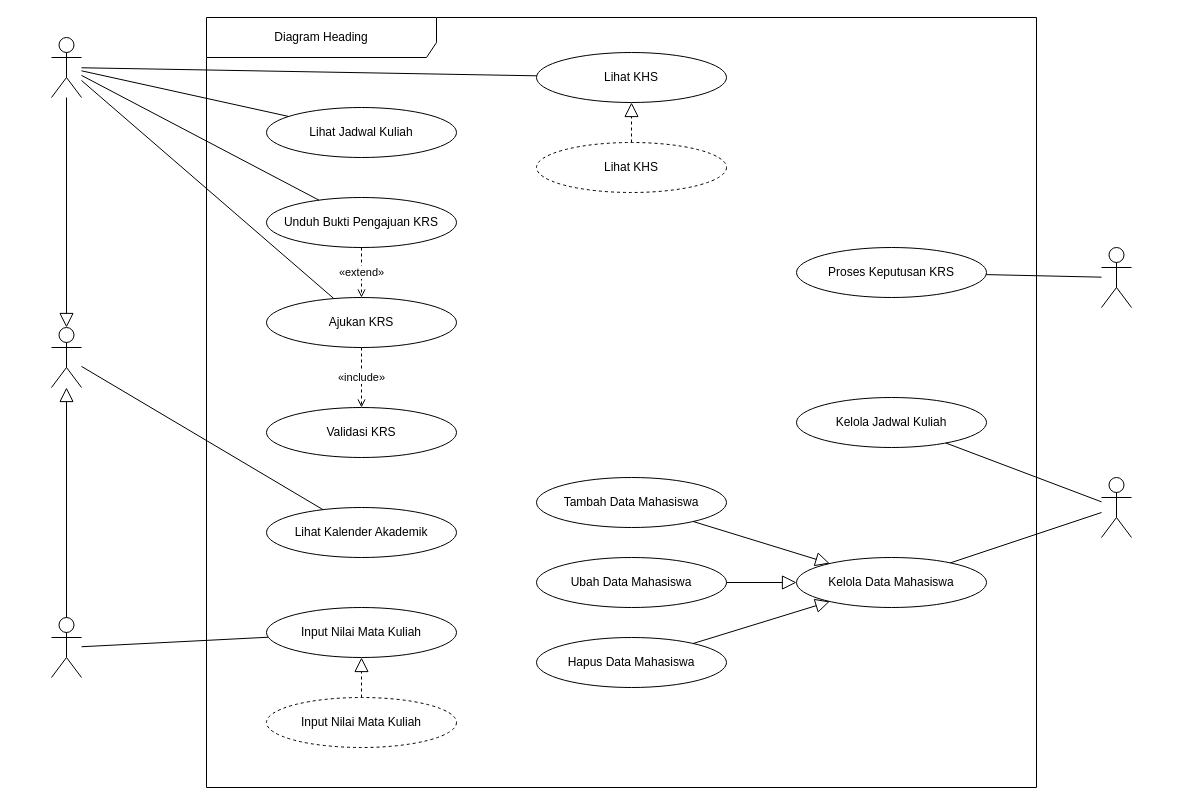
Image size: 1178x805. Some labels were removed from this diagram. The centre of each missing label's shape, as x and y in pixels:
"Admin Akademik" belongs at point (1116, 507).
"Civitas Akademika" belongs at point (66, 357).
"Dosen" belongs at point (66, 647).
"Dosen Wali" belongs at point (1116, 277).
"Mahasiswa" belongs at point (66, 67).
